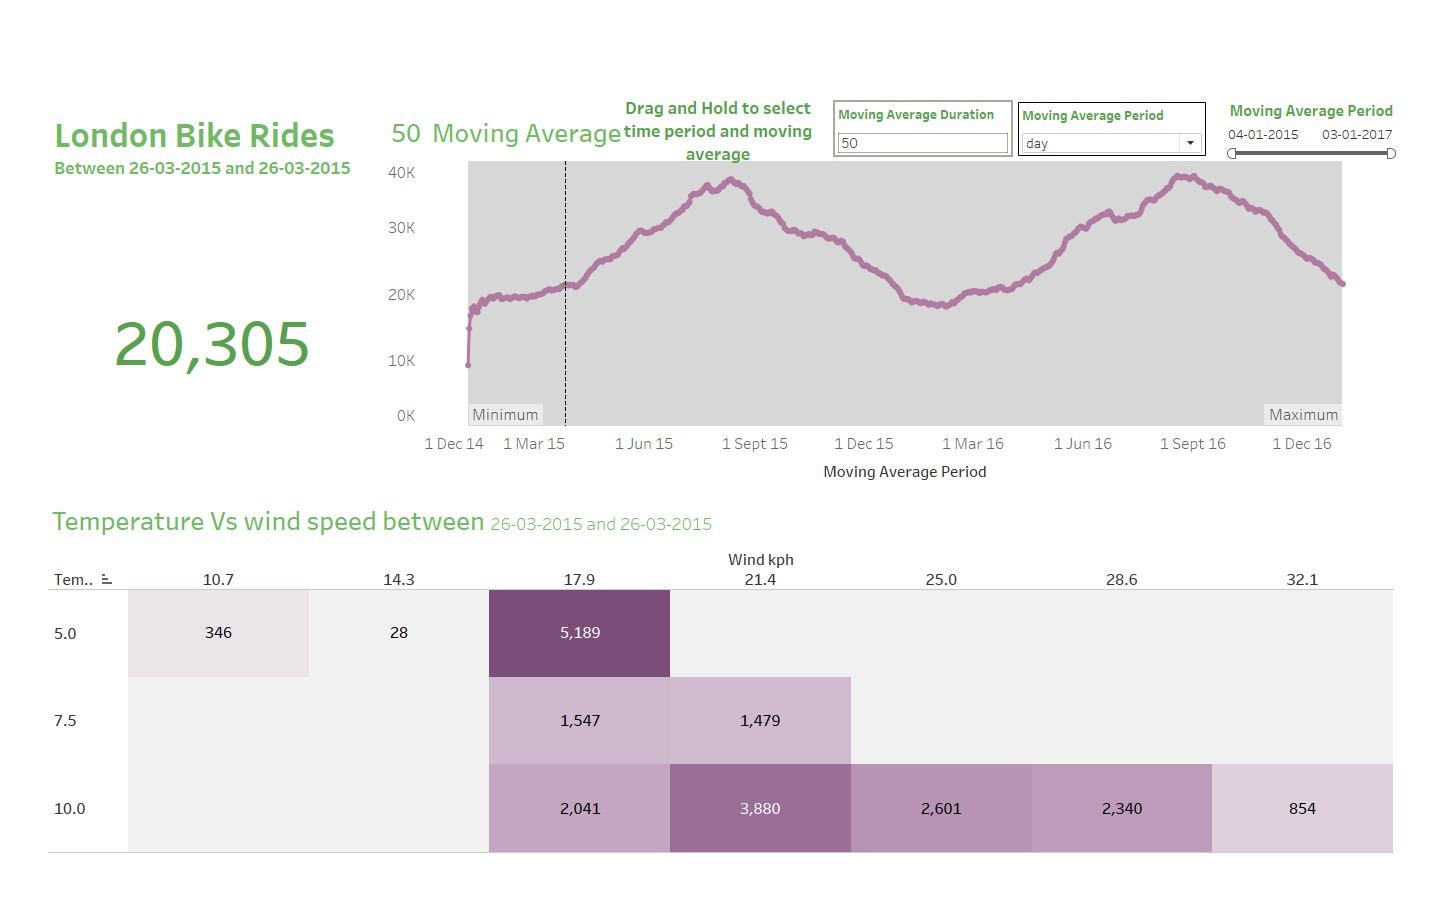

The page's visual inventory and layout, read from the dashboard file:
{"tool":"tableau","page":{"name":"Dashboard 1","canvas":[1366,768],"ordinal":0},"visuals":[{"type":"parameter","param":"[Parameters].[Parameter 2]","box":[795,5,180,57]},{"type":"filter","title":"Moving Average","param":"[federated.0hxy6261gfx1dc13fv22s0brkqh2].[none:Calculation_814025675233157120:qk","box":[1185,5,177,71]},{"type":"parameter","param":"[Parameters].[Parameter 1]","box":[980,7,188,54]},{"type":"worksheet","title":"Sum of Rides","mark":"Automatic","box":[8,8,333,394]},{"type":"worksheet","title":"Moving Average","mark":"Automatic","rows":["Calculation1"],"cols":["Calculation_814025675233157120"],"box":[341,8,1017,394]},{"type":"worksheet","title":"HeatMap","mark":"Square","rows":["temp real C (bin)"],"cols":["Wind Speed Kph (bin)"],"box":[8,402,1350,358]}]}

Visuals, with their boxes on the page's 1366x768 design canvas (x1, y1, x2, y2). These are canvas units, not pixel positions in the 1436x915 screenshot, which may show the page scaled, cropped or inside an application window:
parameter: x1=795, y1=5, x2=975, y2=62
"Moving Average" filter: x1=1185, y1=5, x2=1362, y2=76
parameter: x1=980, y1=7, x2=1168, y2=61
"Sum of Rides" worksheet: x1=8, y1=8, x2=341, y2=402
"Moving Average" worksheet: x1=341, y1=8, x2=1358, y2=402
"HeatMap" worksheet (Square marks): x1=8, y1=402, x2=1358, y2=760
